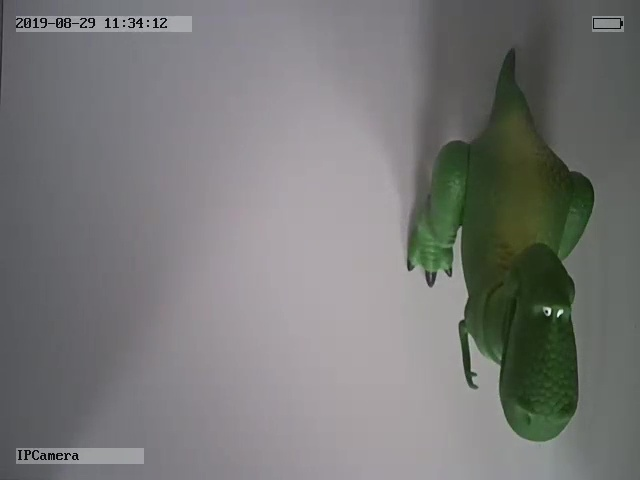rex: (404, 45, 597, 443)
